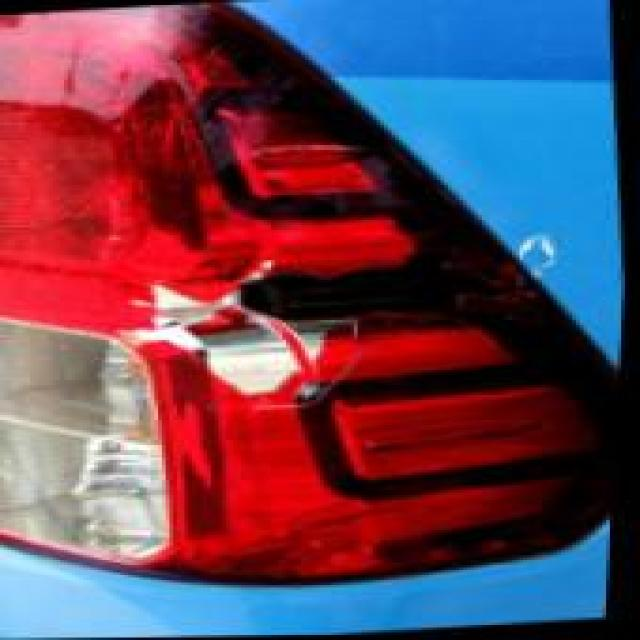Light: (0, 112, 482, 566)
